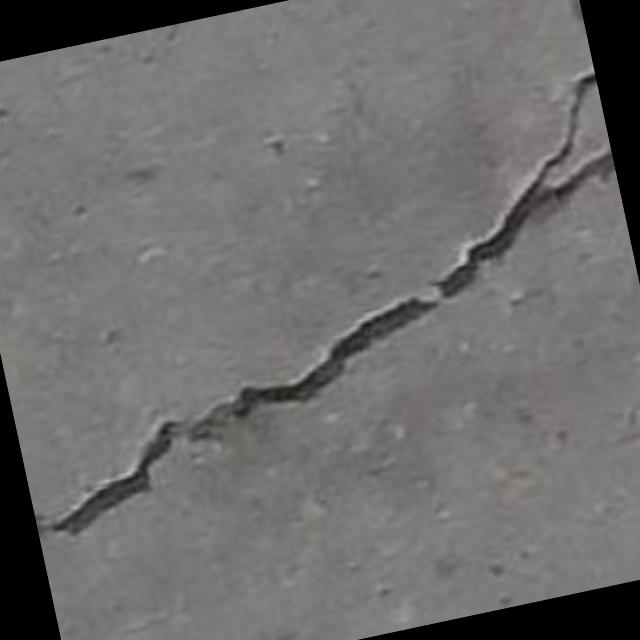crack: (34, 71, 614, 537)
